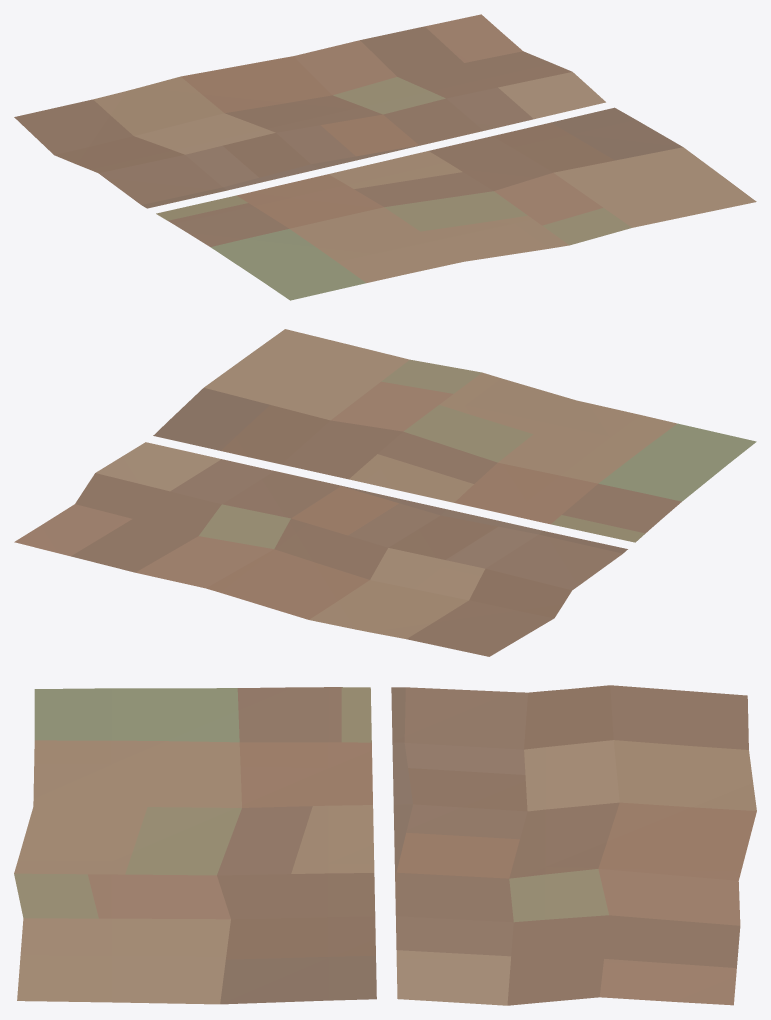
File: farm_5_11_soil.glb
3 renders of one model, top to bottom at view 1: azimuth 30°, elevation 25°; view 2: azimuth 150°, elevation 25°; view 3: azimuth 270°, elevation 25°, orthographic. The views are drawn at different scales.
Visible parts, largest first — view 1: geometry_0; view 2: geometry_0; view 3: geometry_0.
Part boxes in pixels (bbox=[...]): geometry_0: bbox=[14, 14, 756, 300]; geometry_0: bbox=[14, 329, 756, 656]; geometry_0: bbox=[14, 685, 756, 1005].
Bounding box in the file's own units: 275 × 8.51 × 274.
